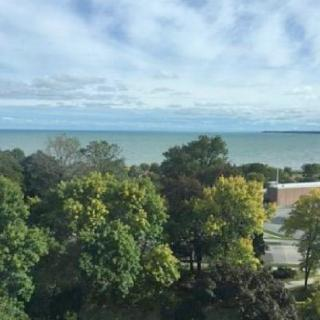Cirrostratus: (0, 0, 320, 131)
